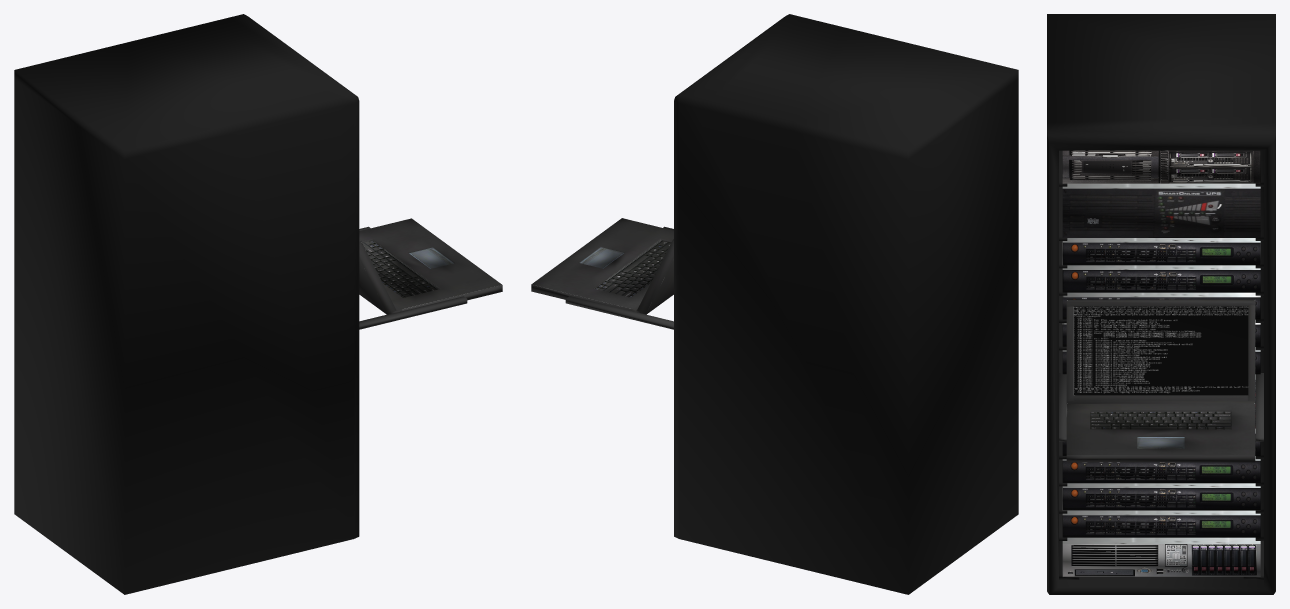
Rendered from serveur.glb.
The picture shows the model from 3 angles, left to right: view 1: azimuth 30°, elevation 25°; view 2: azimuth 150°, elevation 25°; view 3: azimuth 270°, elevation 25°; orthographic projection. The views are drawn at different scales.
Visible parts, largest first — view 1: rack, console, console_left; view 2: rack, console, console_base_right; view 3: rack, console, ups, misc1, misc2, 1u_server8, 1u_server2, 1u_server9, 1u_server1, 1u_server3, 1u_server7, console_base_right (+1 smaller).
Boxes of the visible parts, x1,y1,x2,y2 form: rack: [14, 14, 359, 594]; console: [359, 218, 502, 314]; console_left: [359, 296, 467, 329]; rack: [674, 14, 1018, 594]; console: [531, 218, 673, 314]; console_base_right: [565, 296, 673, 329]; rack: [1047, 14, 1275, 594]; console: [1066, 299, 1255, 462]; ups: [1062, 183, 1260, 237]; misc1: [1062, 537, 1260, 576]; misc2: [1062, 150, 1260, 183]; 1u_server8: [1062, 265, 1260, 292]; 1u_server2: [1062, 483, 1260, 510]; 1u_server9: [1062, 238, 1260, 265]; 1u_server1: [1062, 510, 1260, 537]; 1u_server3: [1062, 456, 1260, 483]; 1u_server7: [1062, 292, 1260, 319]; console_base_right: [1255, 373, 1263, 441].
Size of the model in its own units: 4.7 by 5.15 by 2.32.
Materials: 4 (3 with a texture image).
